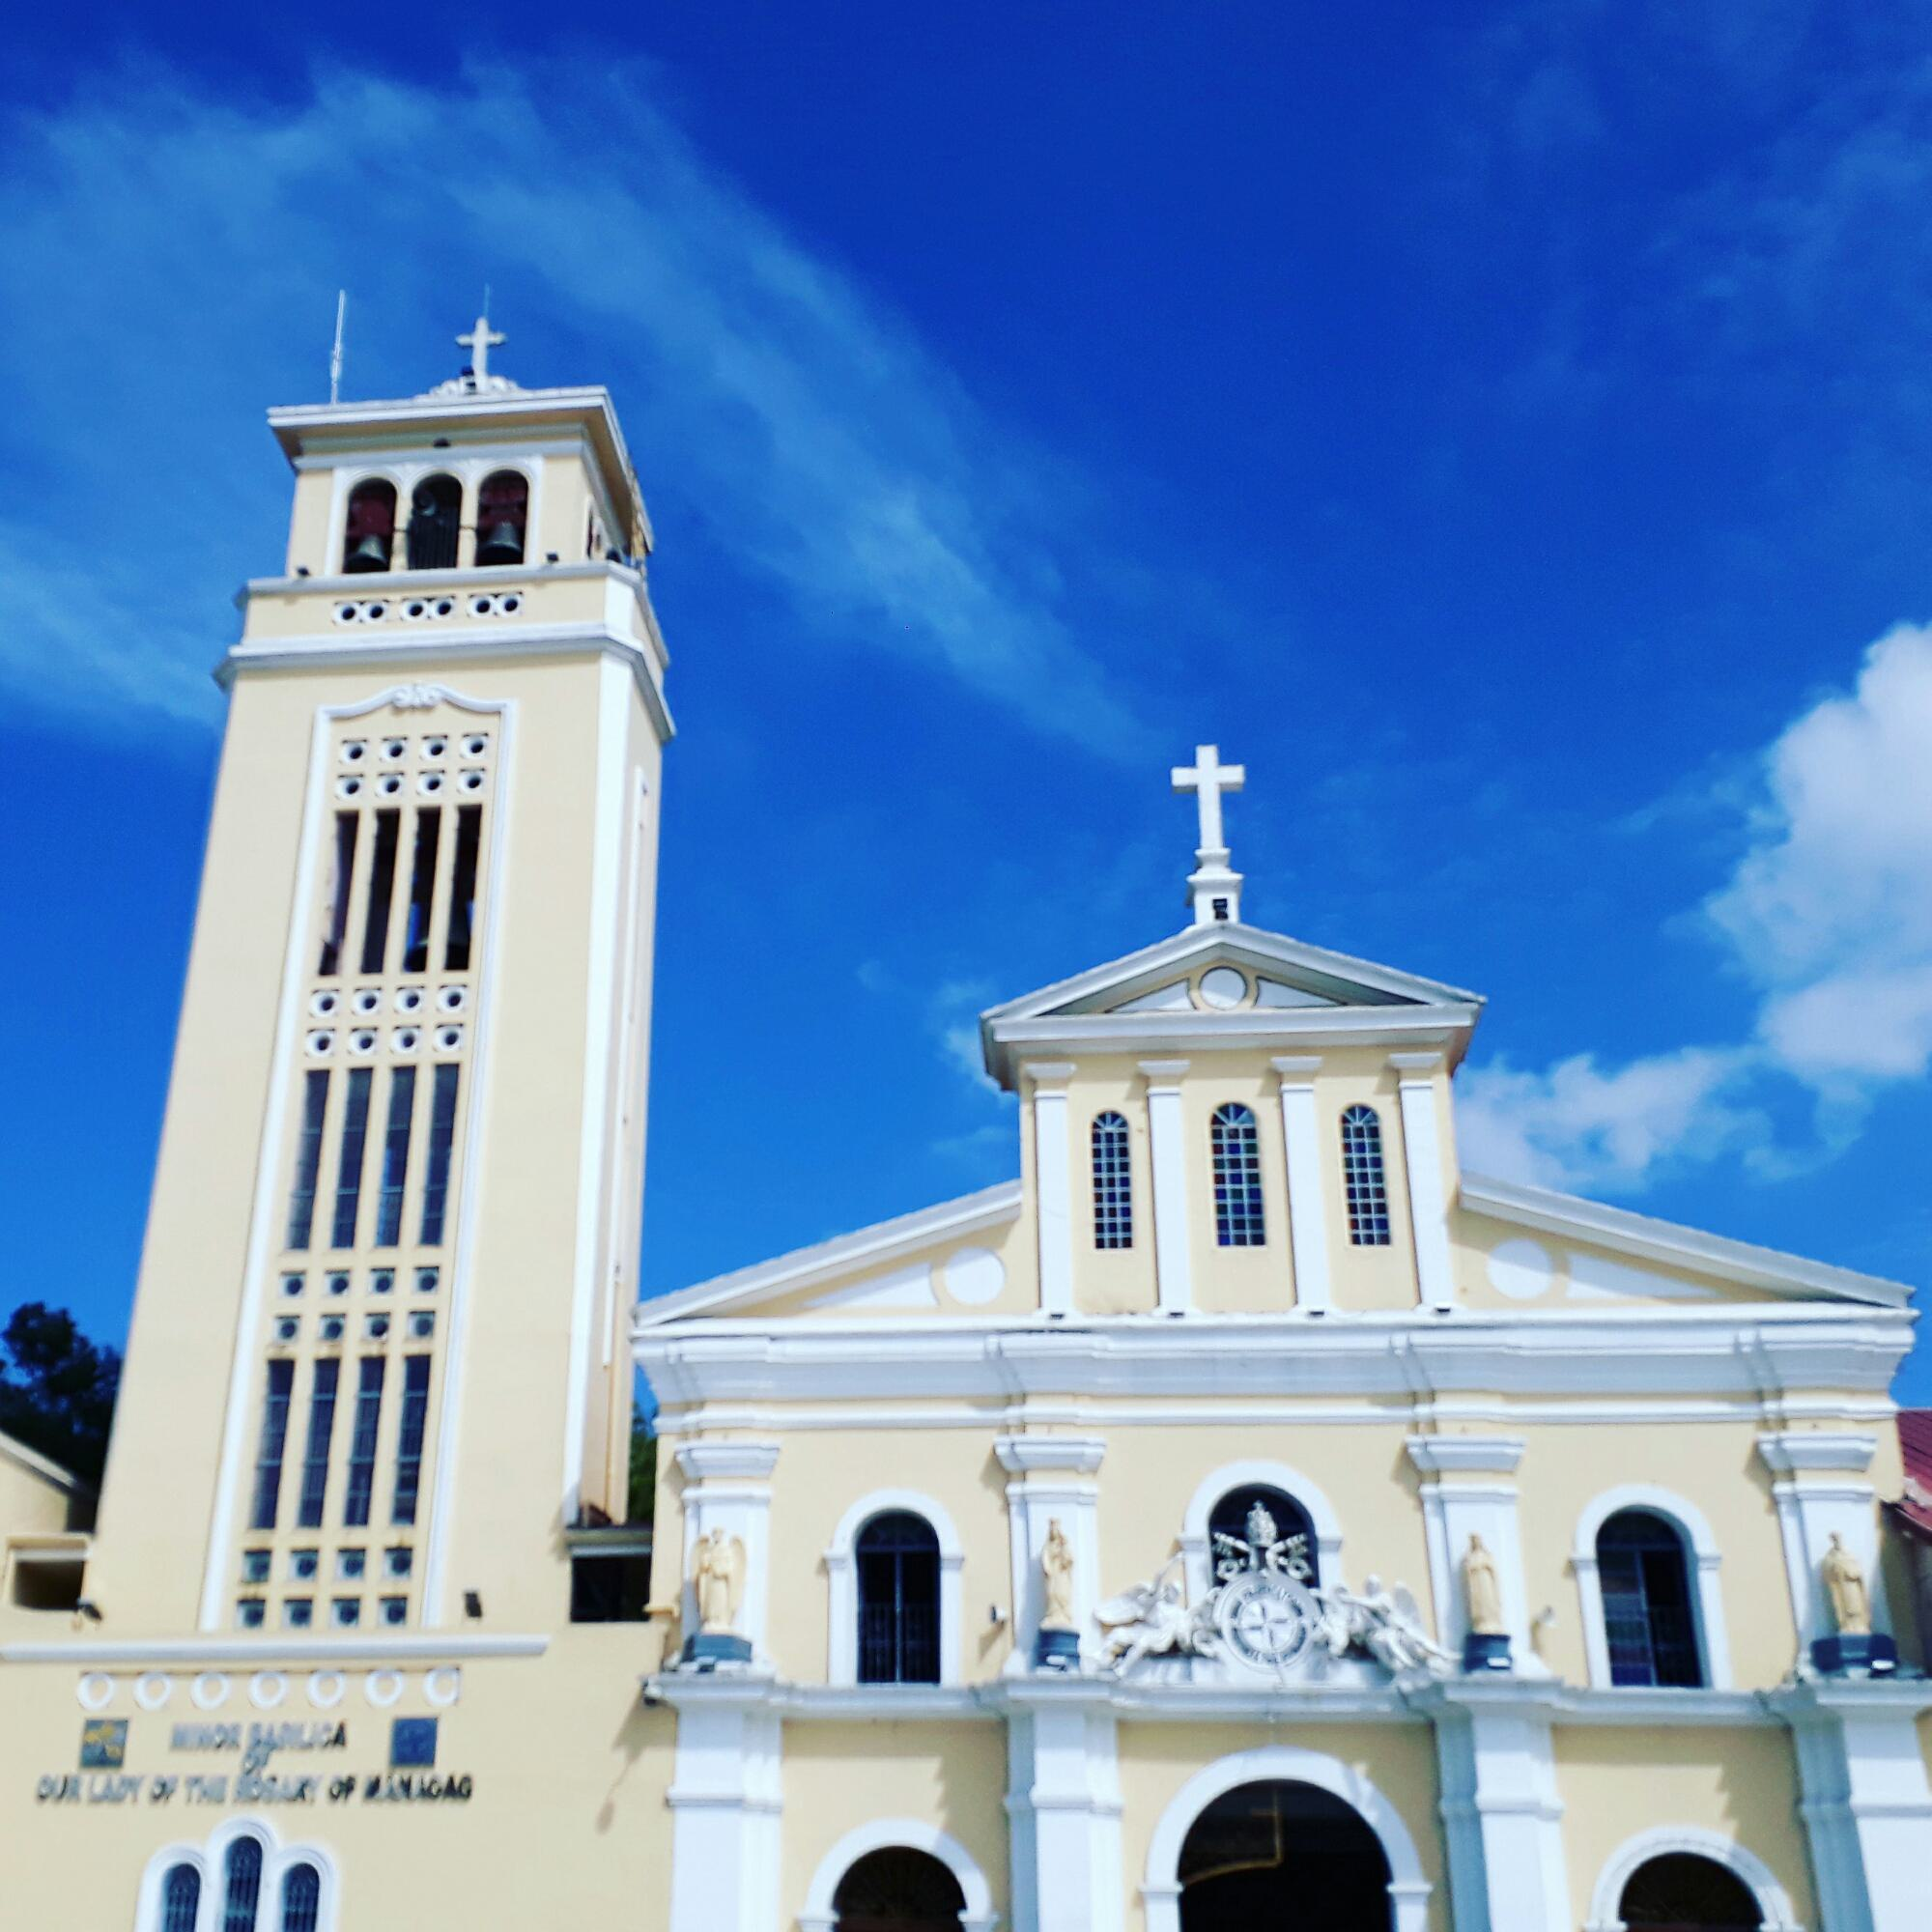manaoag_church_manaoag_pangasinan: (7, 264, 1932, 1932)
